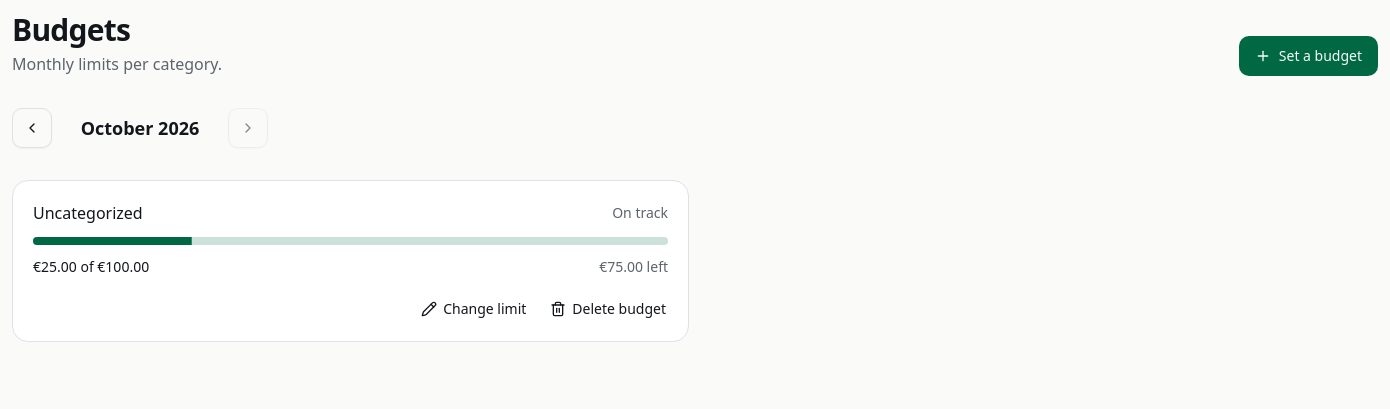
BudgetsPage month switching › shows the offline state instead of the previous month under the new heading
This screenshot has width=1390, height=409.
expect the progress indicator named "Uncategorized" is shown: met, box [33,237,668,245]
Click the button named "Previous month" at [32, 128], box [12,108,52,148]
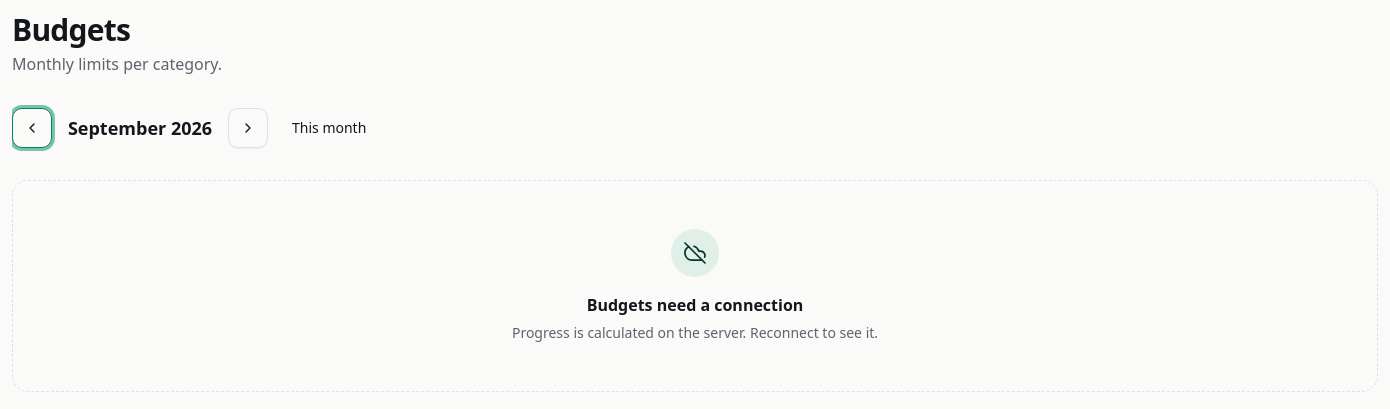
expect the button named "Next month" is enabled: met, box [228,108,268,148]
expect the heading "Budgets need a connection" is shown: met, box [587,294,803,316]
expect the heading "Uncategorized" is gone: met
